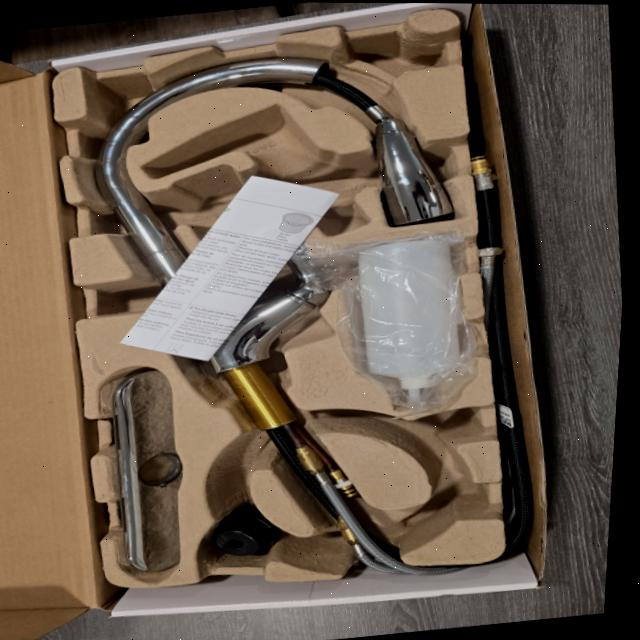1o: (94, 56, 453, 574)
2m: (139, 104, 372, 236)
3: (357, 236, 462, 406)
4: (114, 370, 183, 572)
5: (209, 503, 279, 556)
6m: (399, 474, 487, 538)
7m: (348, 405, 492, 472)
8: (121, 176, 339, 361)
